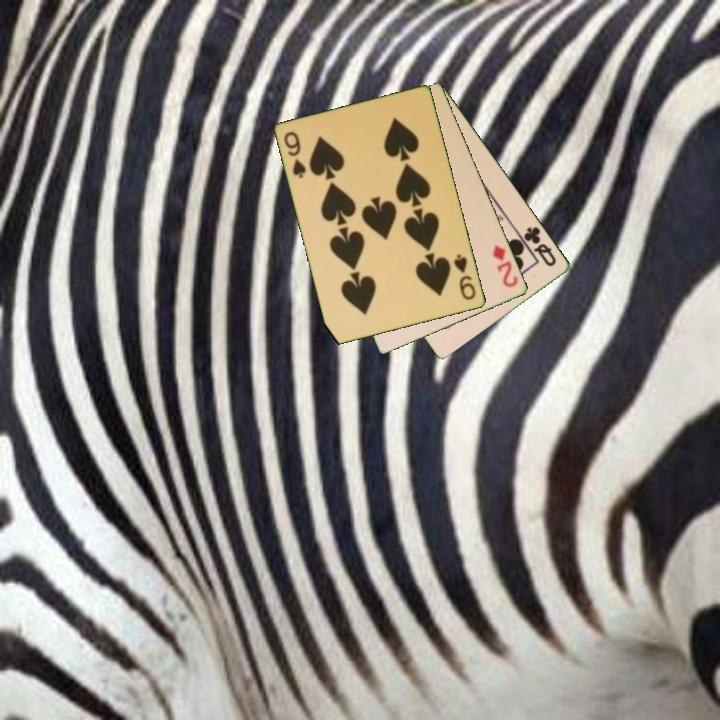2d: (489, 242, 521, 291)
9s: (281, 128, 309, 181), (451, 251, 479, 303)
Qc: (520, 223, 560, 270)
